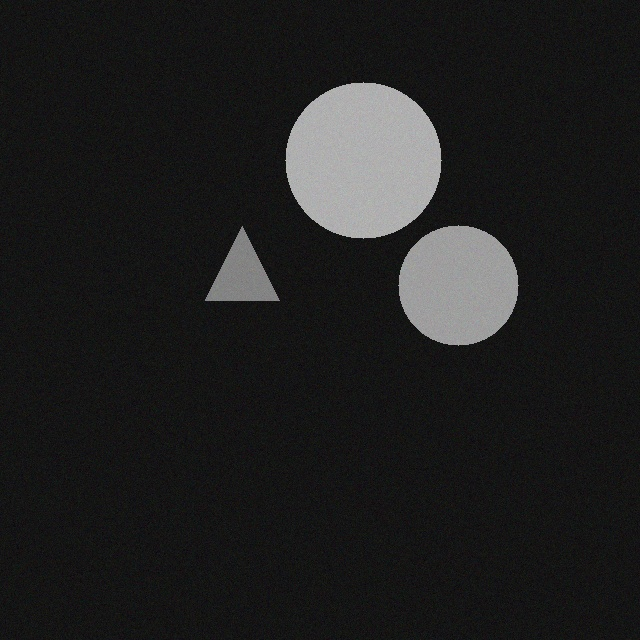circle: (292, 80, 448, 236), (405, 223, 525, 343)
triangle: (212, 224, 286, 298)
